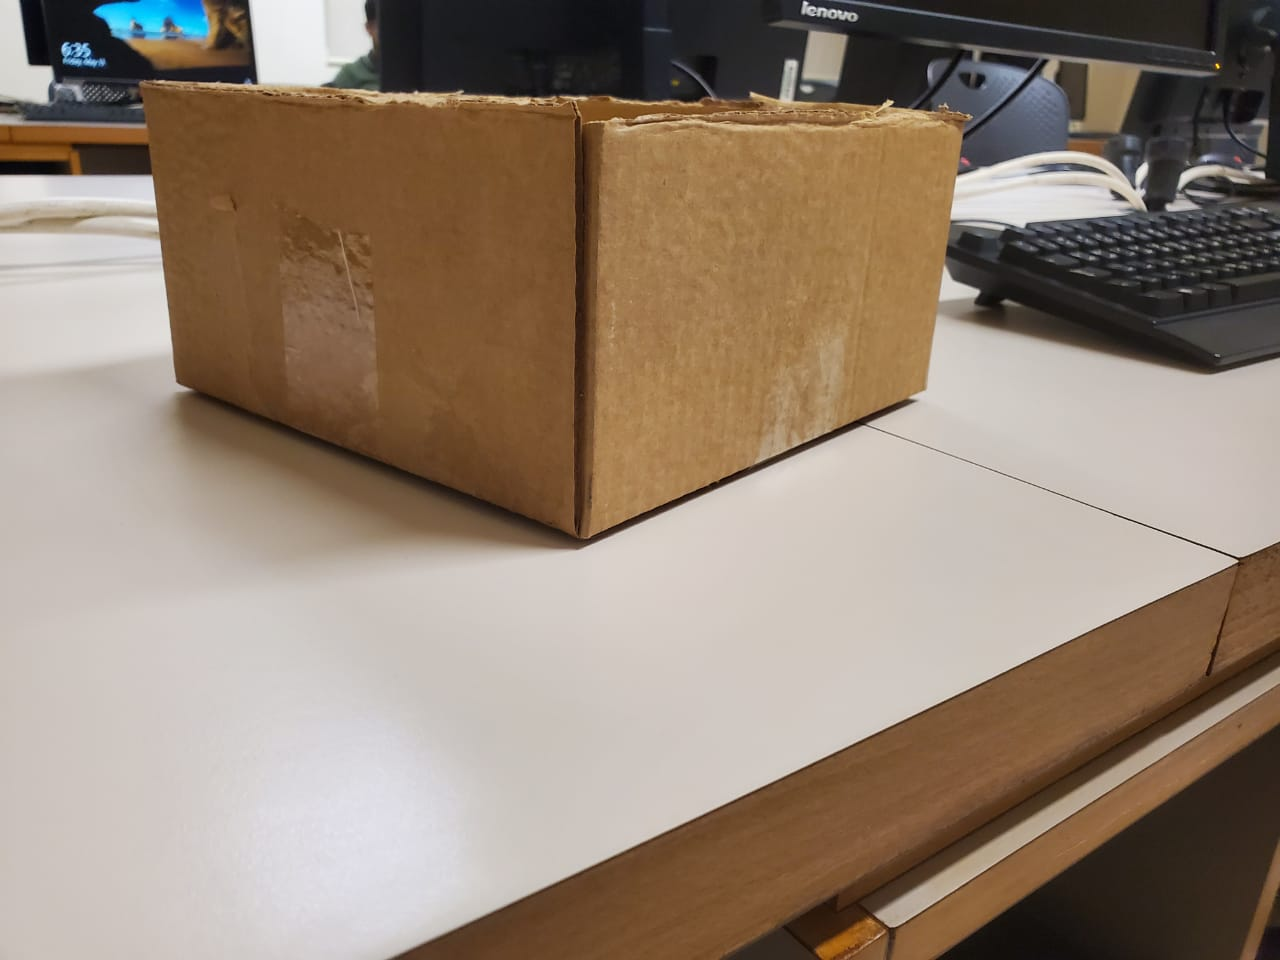CBox: (129, 68, 985, 550)
